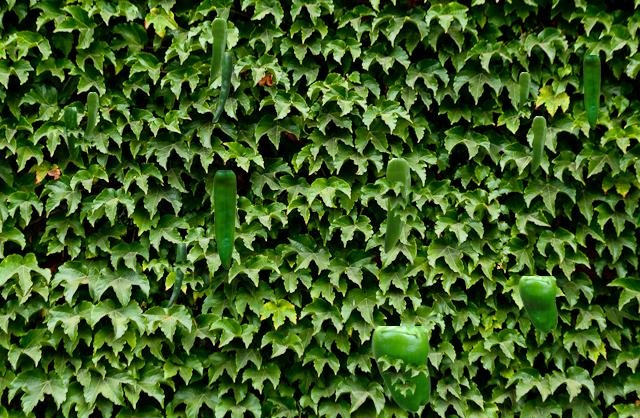green_chili: (371, 326, 429, 411), (384, 158, 409, 252), (213, 170, 235, 268), (518, 276, 556, 332), (212, 52, 231, 121), (583, 55, 599, 128), (167, 243, 185, 307), (210, 18, 226, 78), (531, 116, 545, 172), (64, 107, 77, 159), (86, 92, 97, 135), (518, 72, 529, 110)
